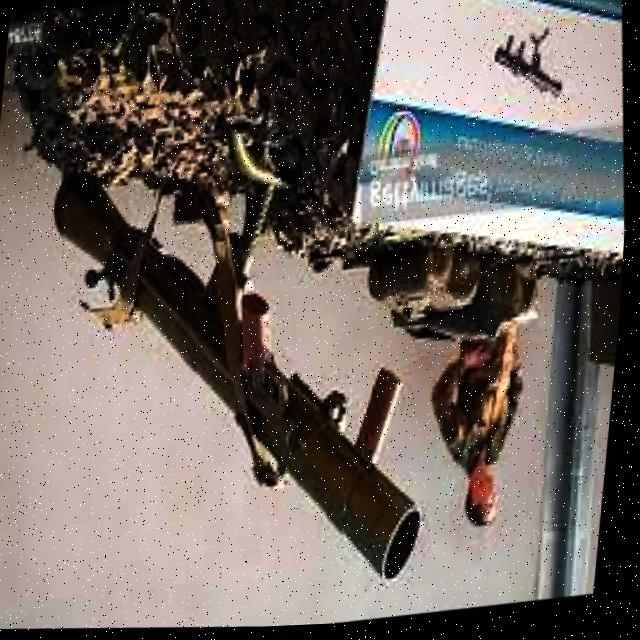rocket: (20, 128, 464, 635)
